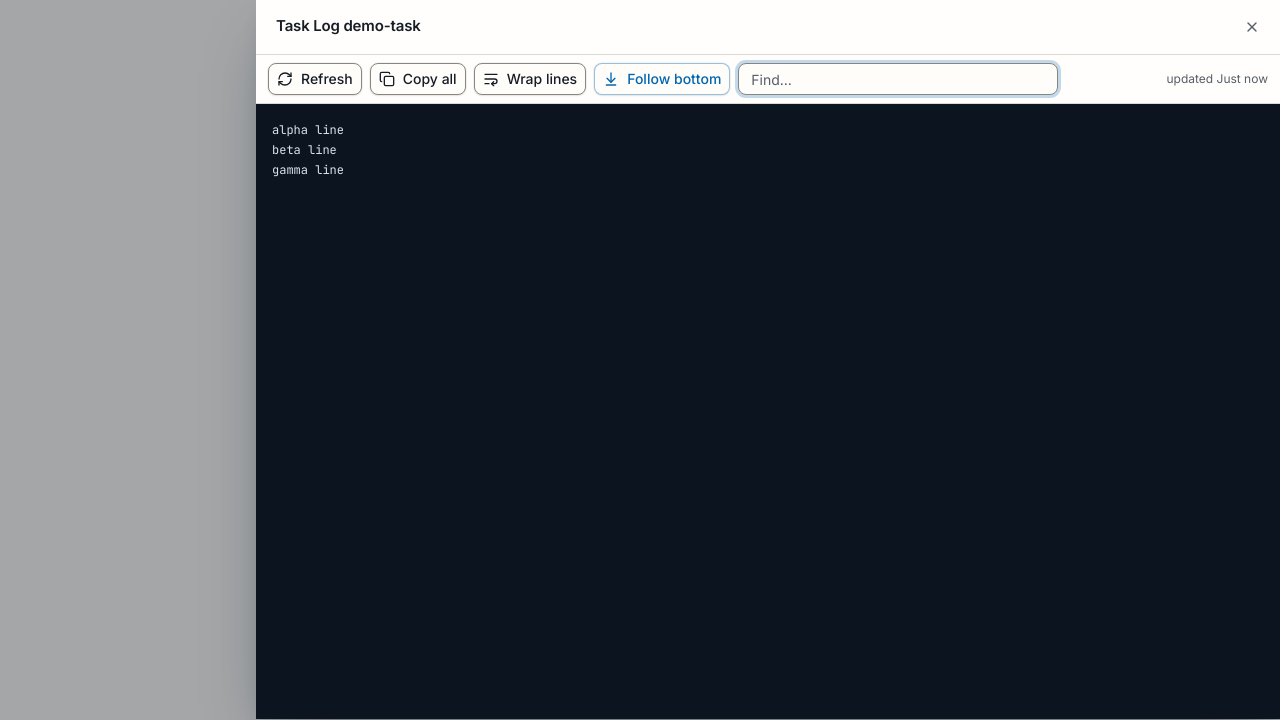
it: TaskLogDialog › debounces filter and announces match count
Type "beta" into the field labelled "Find…" at (898, 79), box [738,63,1058,95]
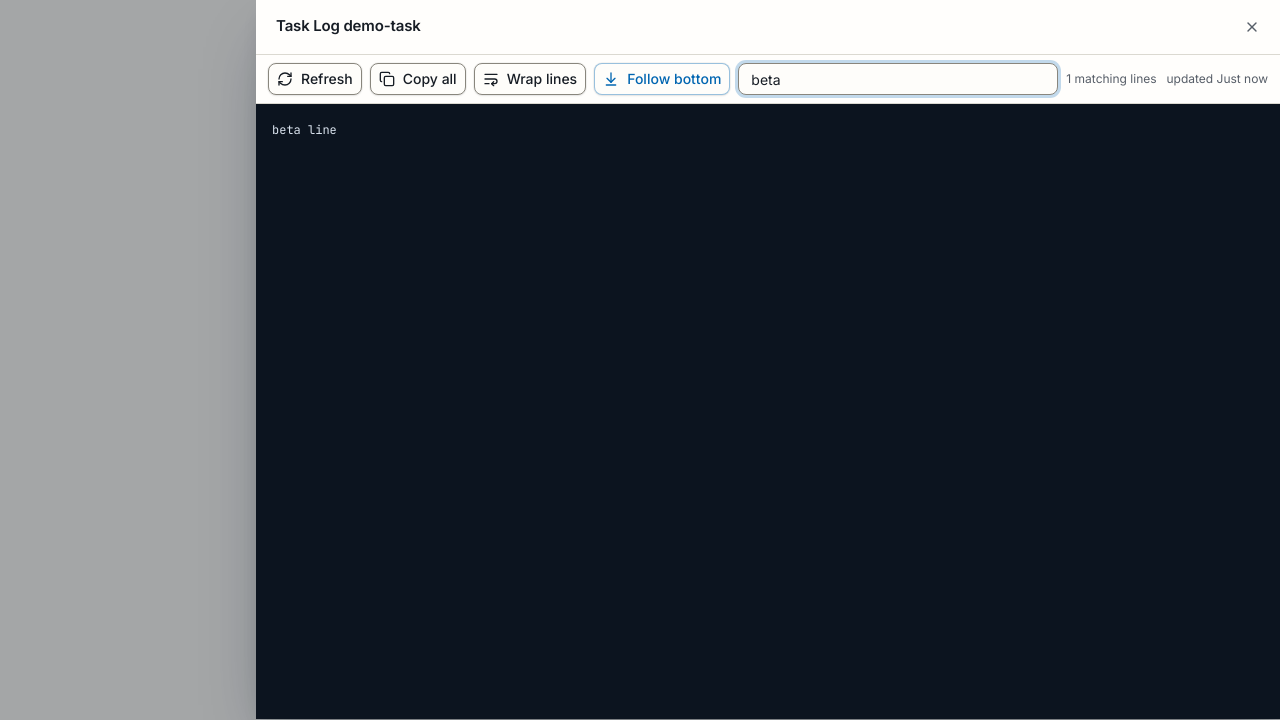
expect the text "1 matching lines" is shown: met, box [1066,71,1156,87]
expect the text "alpha line" is gone: met
